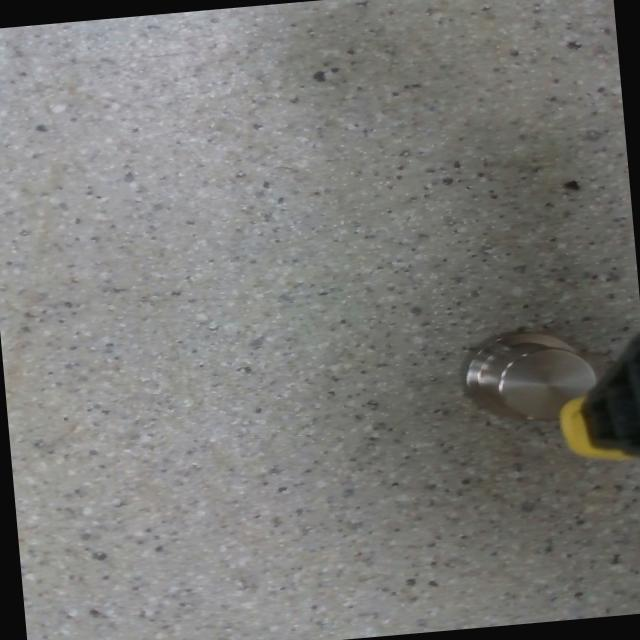sensor: (456, 322, 602, 430)
